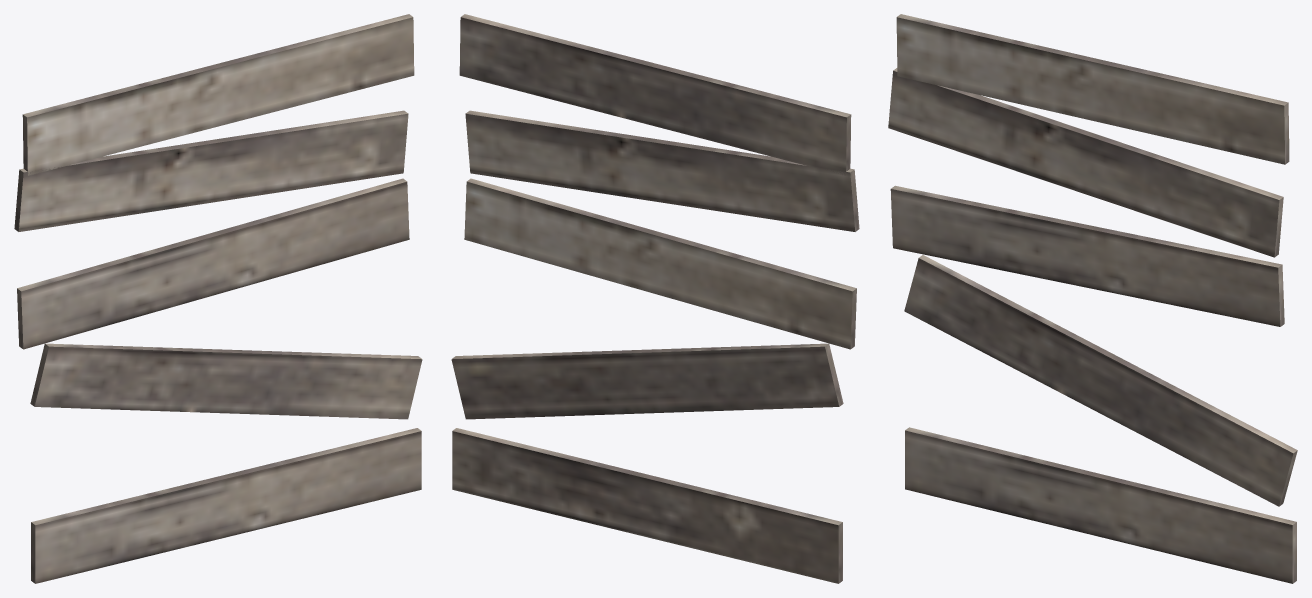
File: des_shack_barricade.fbx
3 renders of one model, left to right at view 1: azimuth 30°, elevation 25°; view 2: azimuth 150°, elevation 25°; view 3: azimuth 330°, elevation 25°, orthographic.
Visible parts, largest first — view 1: shack_barricade; view 2: shack_barricade; view 3: shack_barricade.
Part boxes in pixels (left/top/right/bottom): shack_barricade: left=14, top=14, right=422, bottom=583; shack_barricade: left=451, top=14, right=859, bottom=583; shack_barricade: left=888, top=14, right=1297, bottom=583.
Size of the model in its own units: 209 by 235 by 3.85.
Materials: 1 (1 with a texture image).
